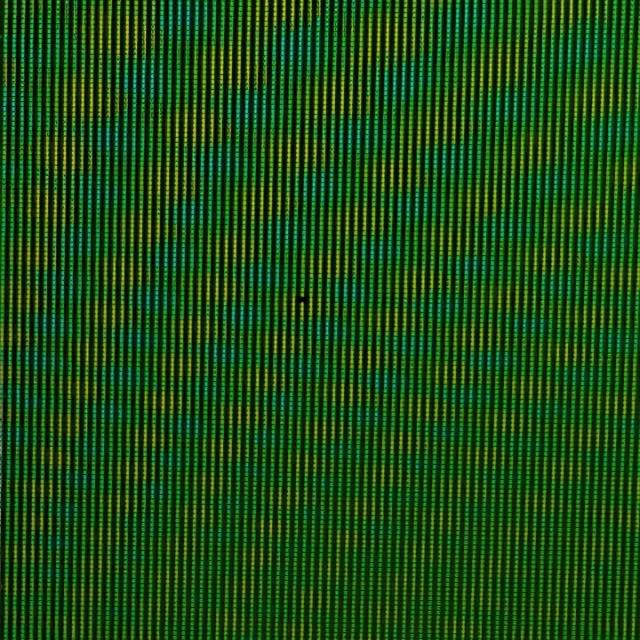Dead pixel: (296, 296, 309, 303)
